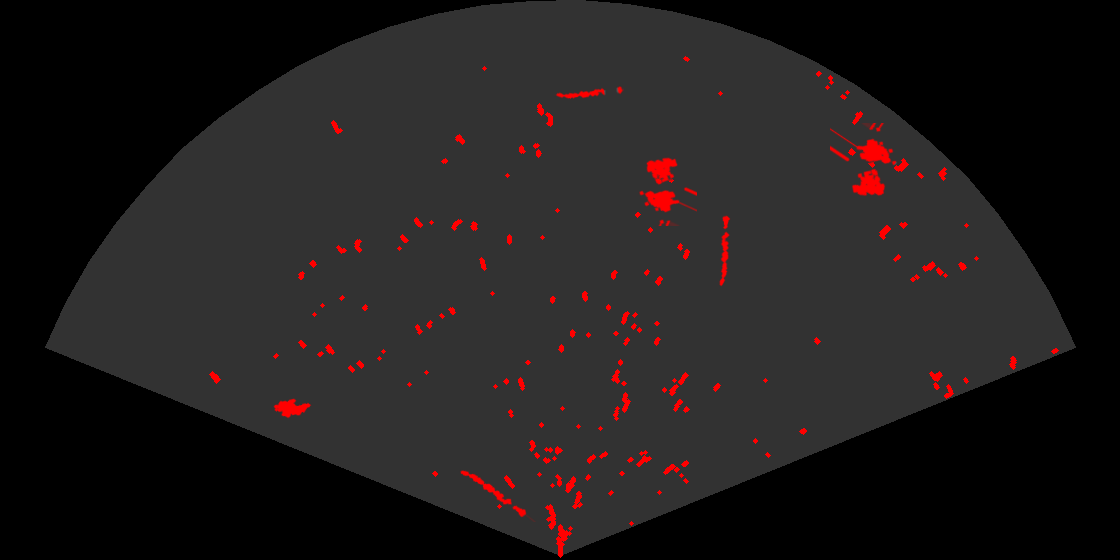AUV: (272, 397, 313, 420)
cage: (830, 123, 898, 198), (638, 156, 697, 226)
chain: (459, 469, 536, 522), (554, 85, 624, 101), (718, 215, 732, 287)
